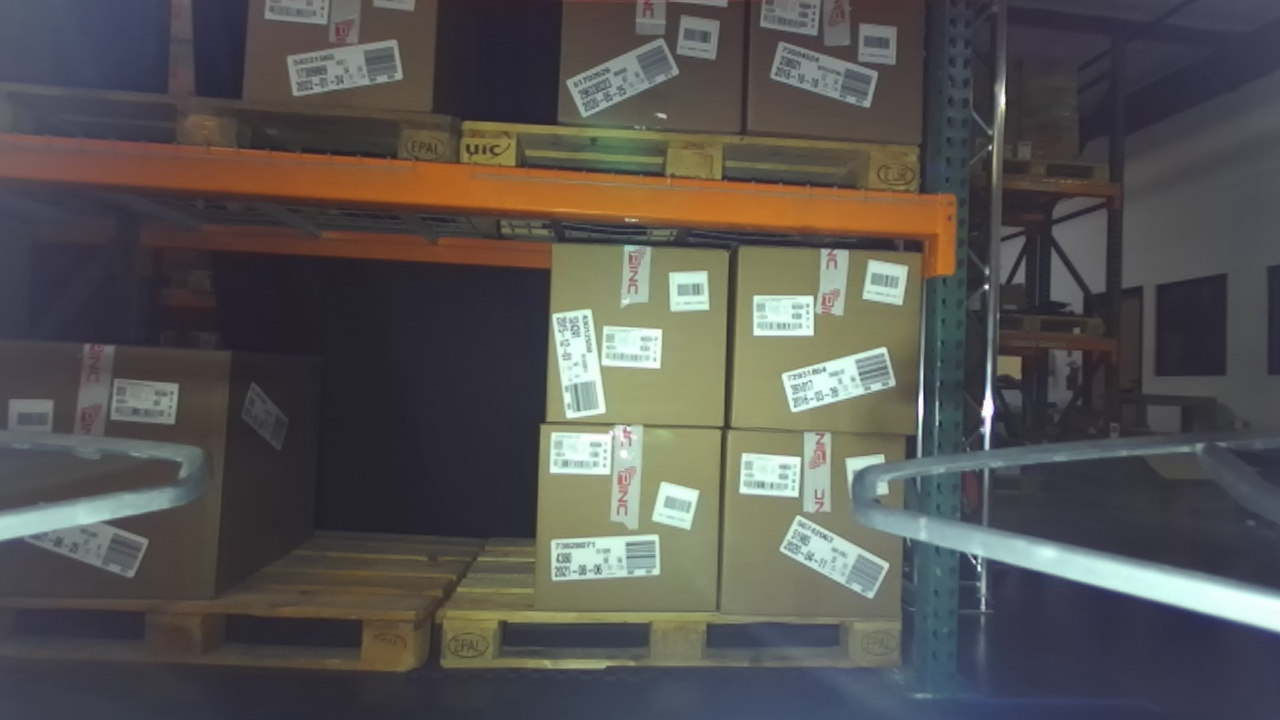box: (1, 322, 251, 635), (711, 203, 940, 459), (703, 394, 924, 644), (522, 214, 752, 450), (517, 404, 741, 639), (720, 1, 943, 160)
